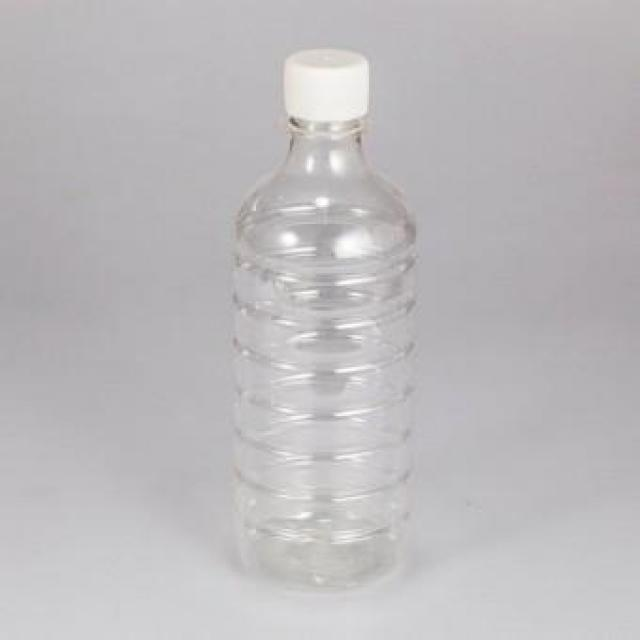bottle: (187, 25, 453, 600)
